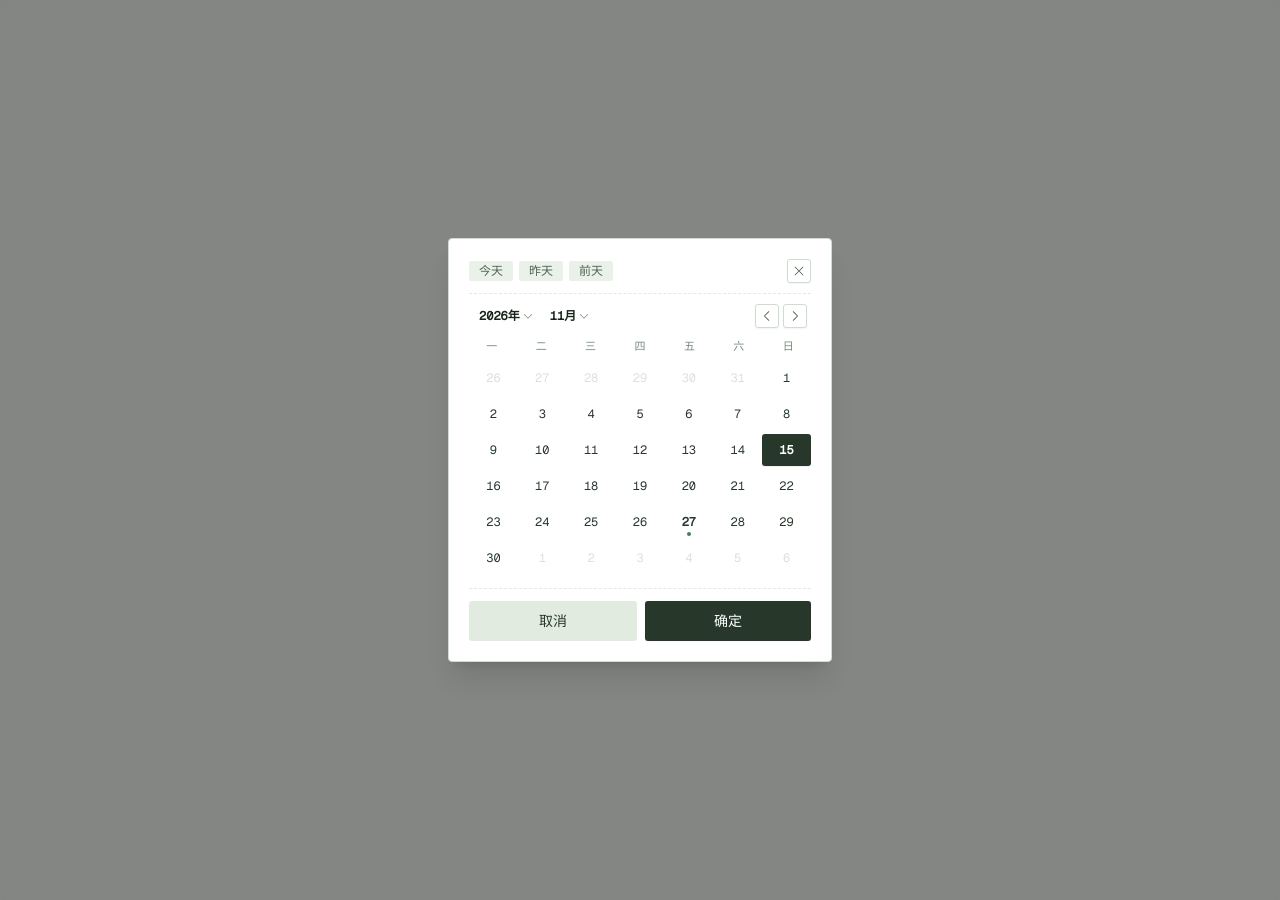
Scenario: PaperDatePickerModal › renders in date mode with header quick shortcuts and selects date upon confirmation
This screenshot has width=1280, height=900.
Later steps or results of the test are not shown.
Expected: the button "今天" is shown, [469,261,513,281]
Expected: the button "昨天" is shown, [519,261,563,281]
Note: Click day 20
Click the button "20" at (689, 486), box [664,470,713,502]
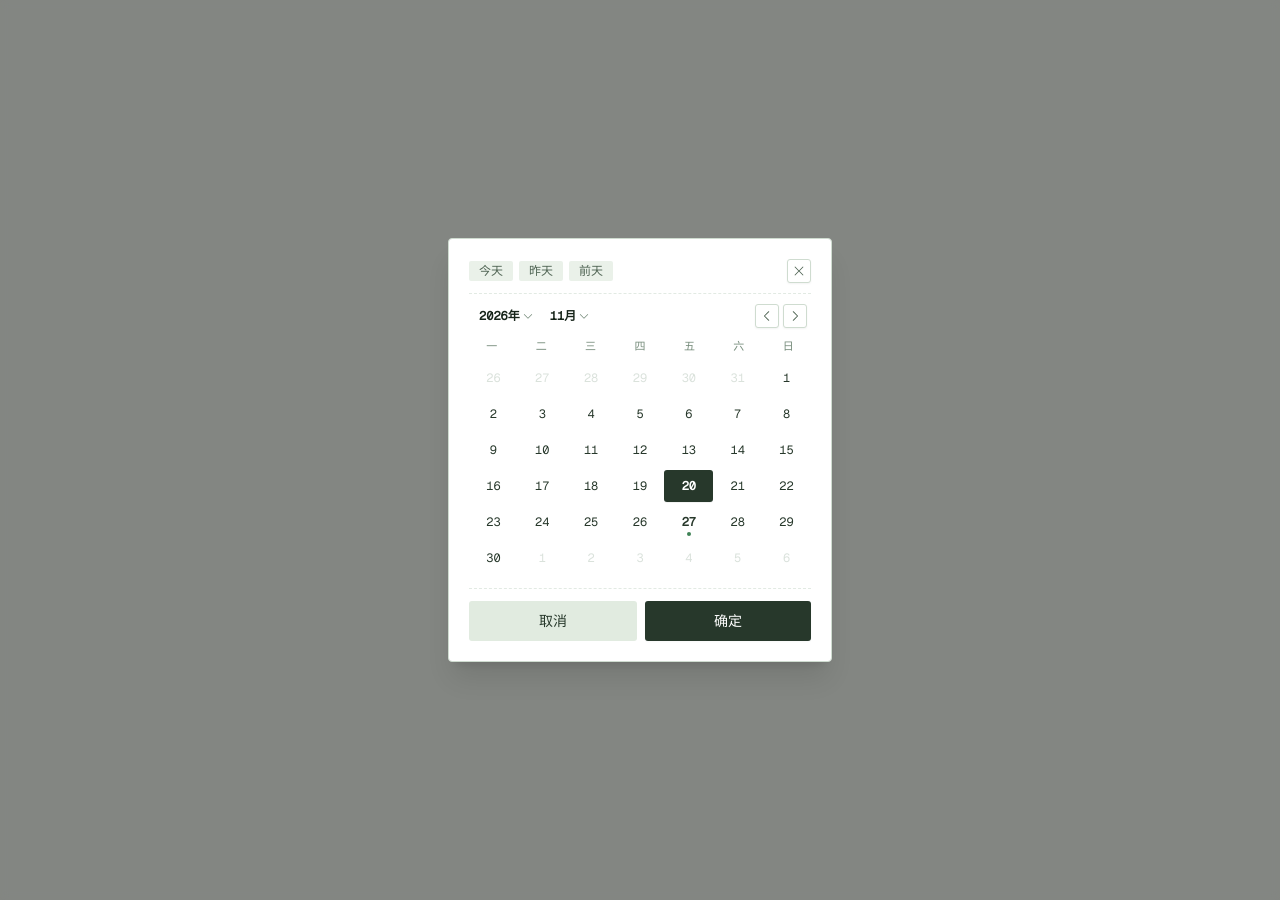
Expected: the button "20" has class "text-(--btn-primary-fg)", [664,470,713,502]
